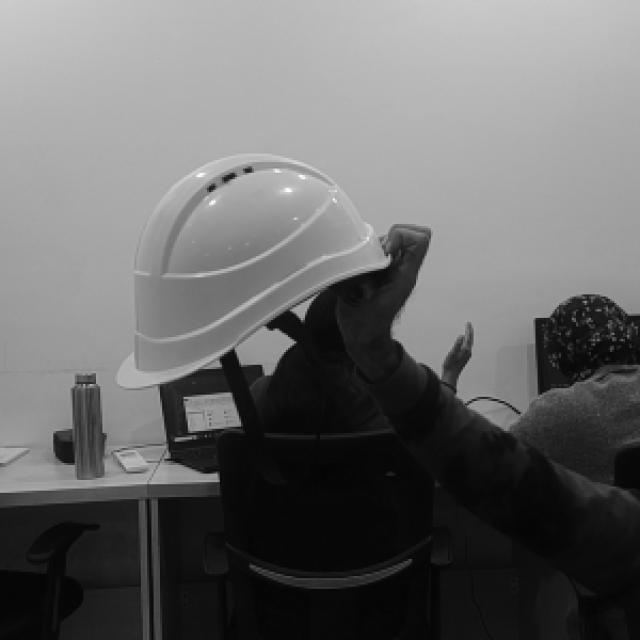safety_helmet: (116, 150, 392, 390)
